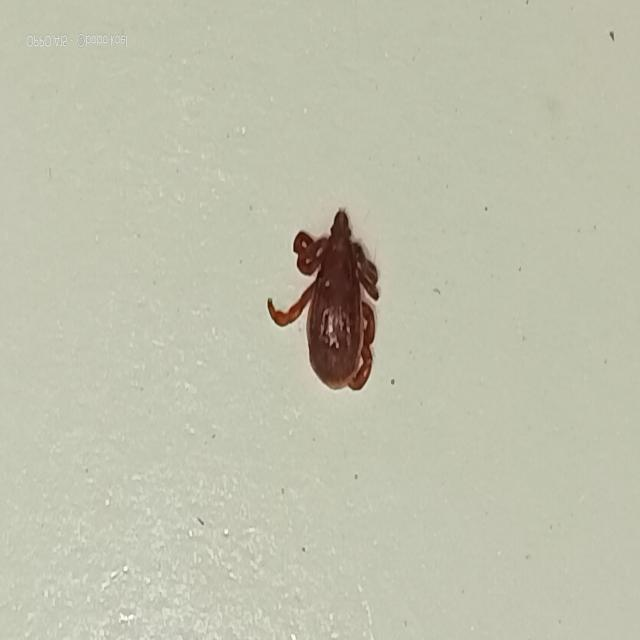Rhipicephalus Sanguineus-M: (268, 206, 381, 390)
